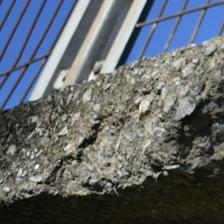Crack: (48, 93, 189, 203)
